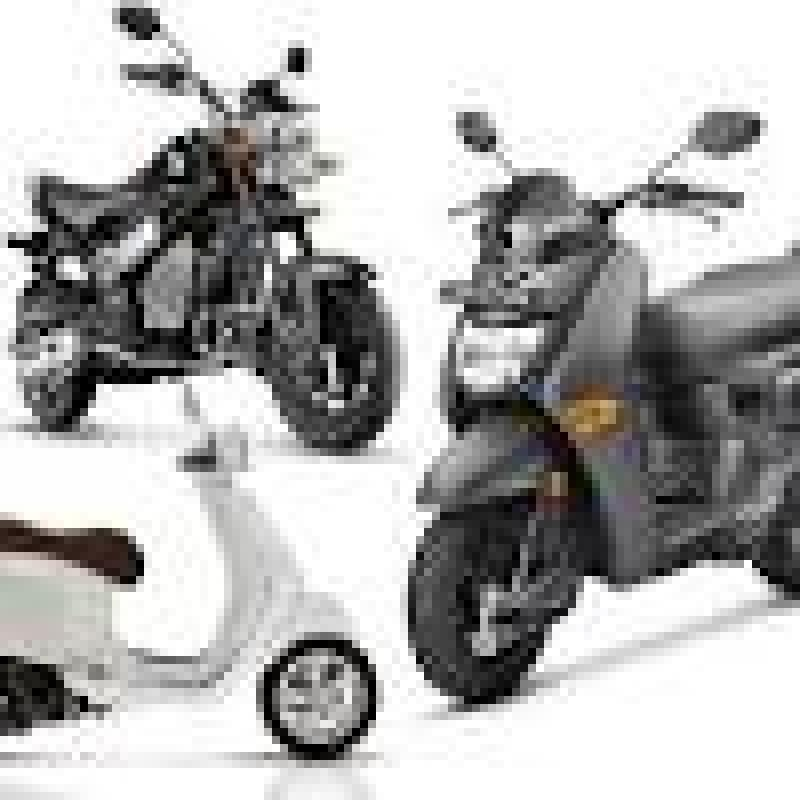bike: (412, 80, 800, 756), (9, 2, 409, 463), (0, 394, 393, 784)
